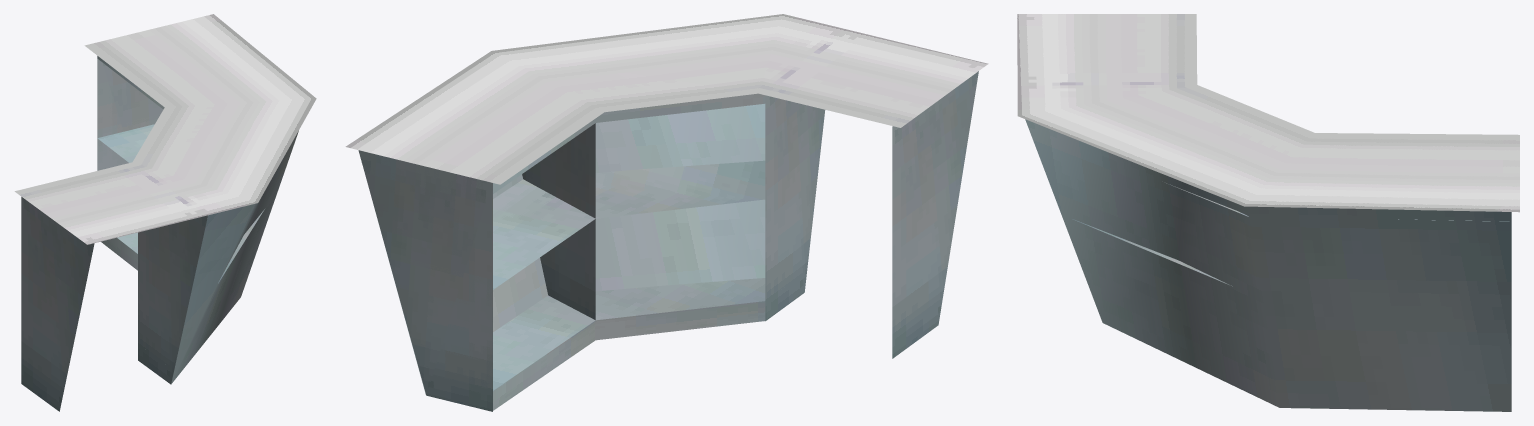
Rendered from frn_bar_piece_curve_s1_l2.fbx.
The picture shows the model from 3 angles, left to right: view 1: azimuth 30°, elevation 25°; view 2: azimuth 150°, elevation 25°; view 3: azimuth 270°, elevation 25°; orthographic projection. The views are drawn at different scales.
Visible parts, largest first — view 1: mesh_node; view 2: mesh_node; view 3: mesh_node.
Boxes of the visible parts, x1,y1,x2,y2 form: mesh_node: (14, 14, 316, 411); mesh_node: (345, 14, 988, 411); mesh_node: (1017, 14, 1519, 411).
Size of the model in its own units: 2.05 by 1.15 by 2.2.
1 material, 1 textured.
